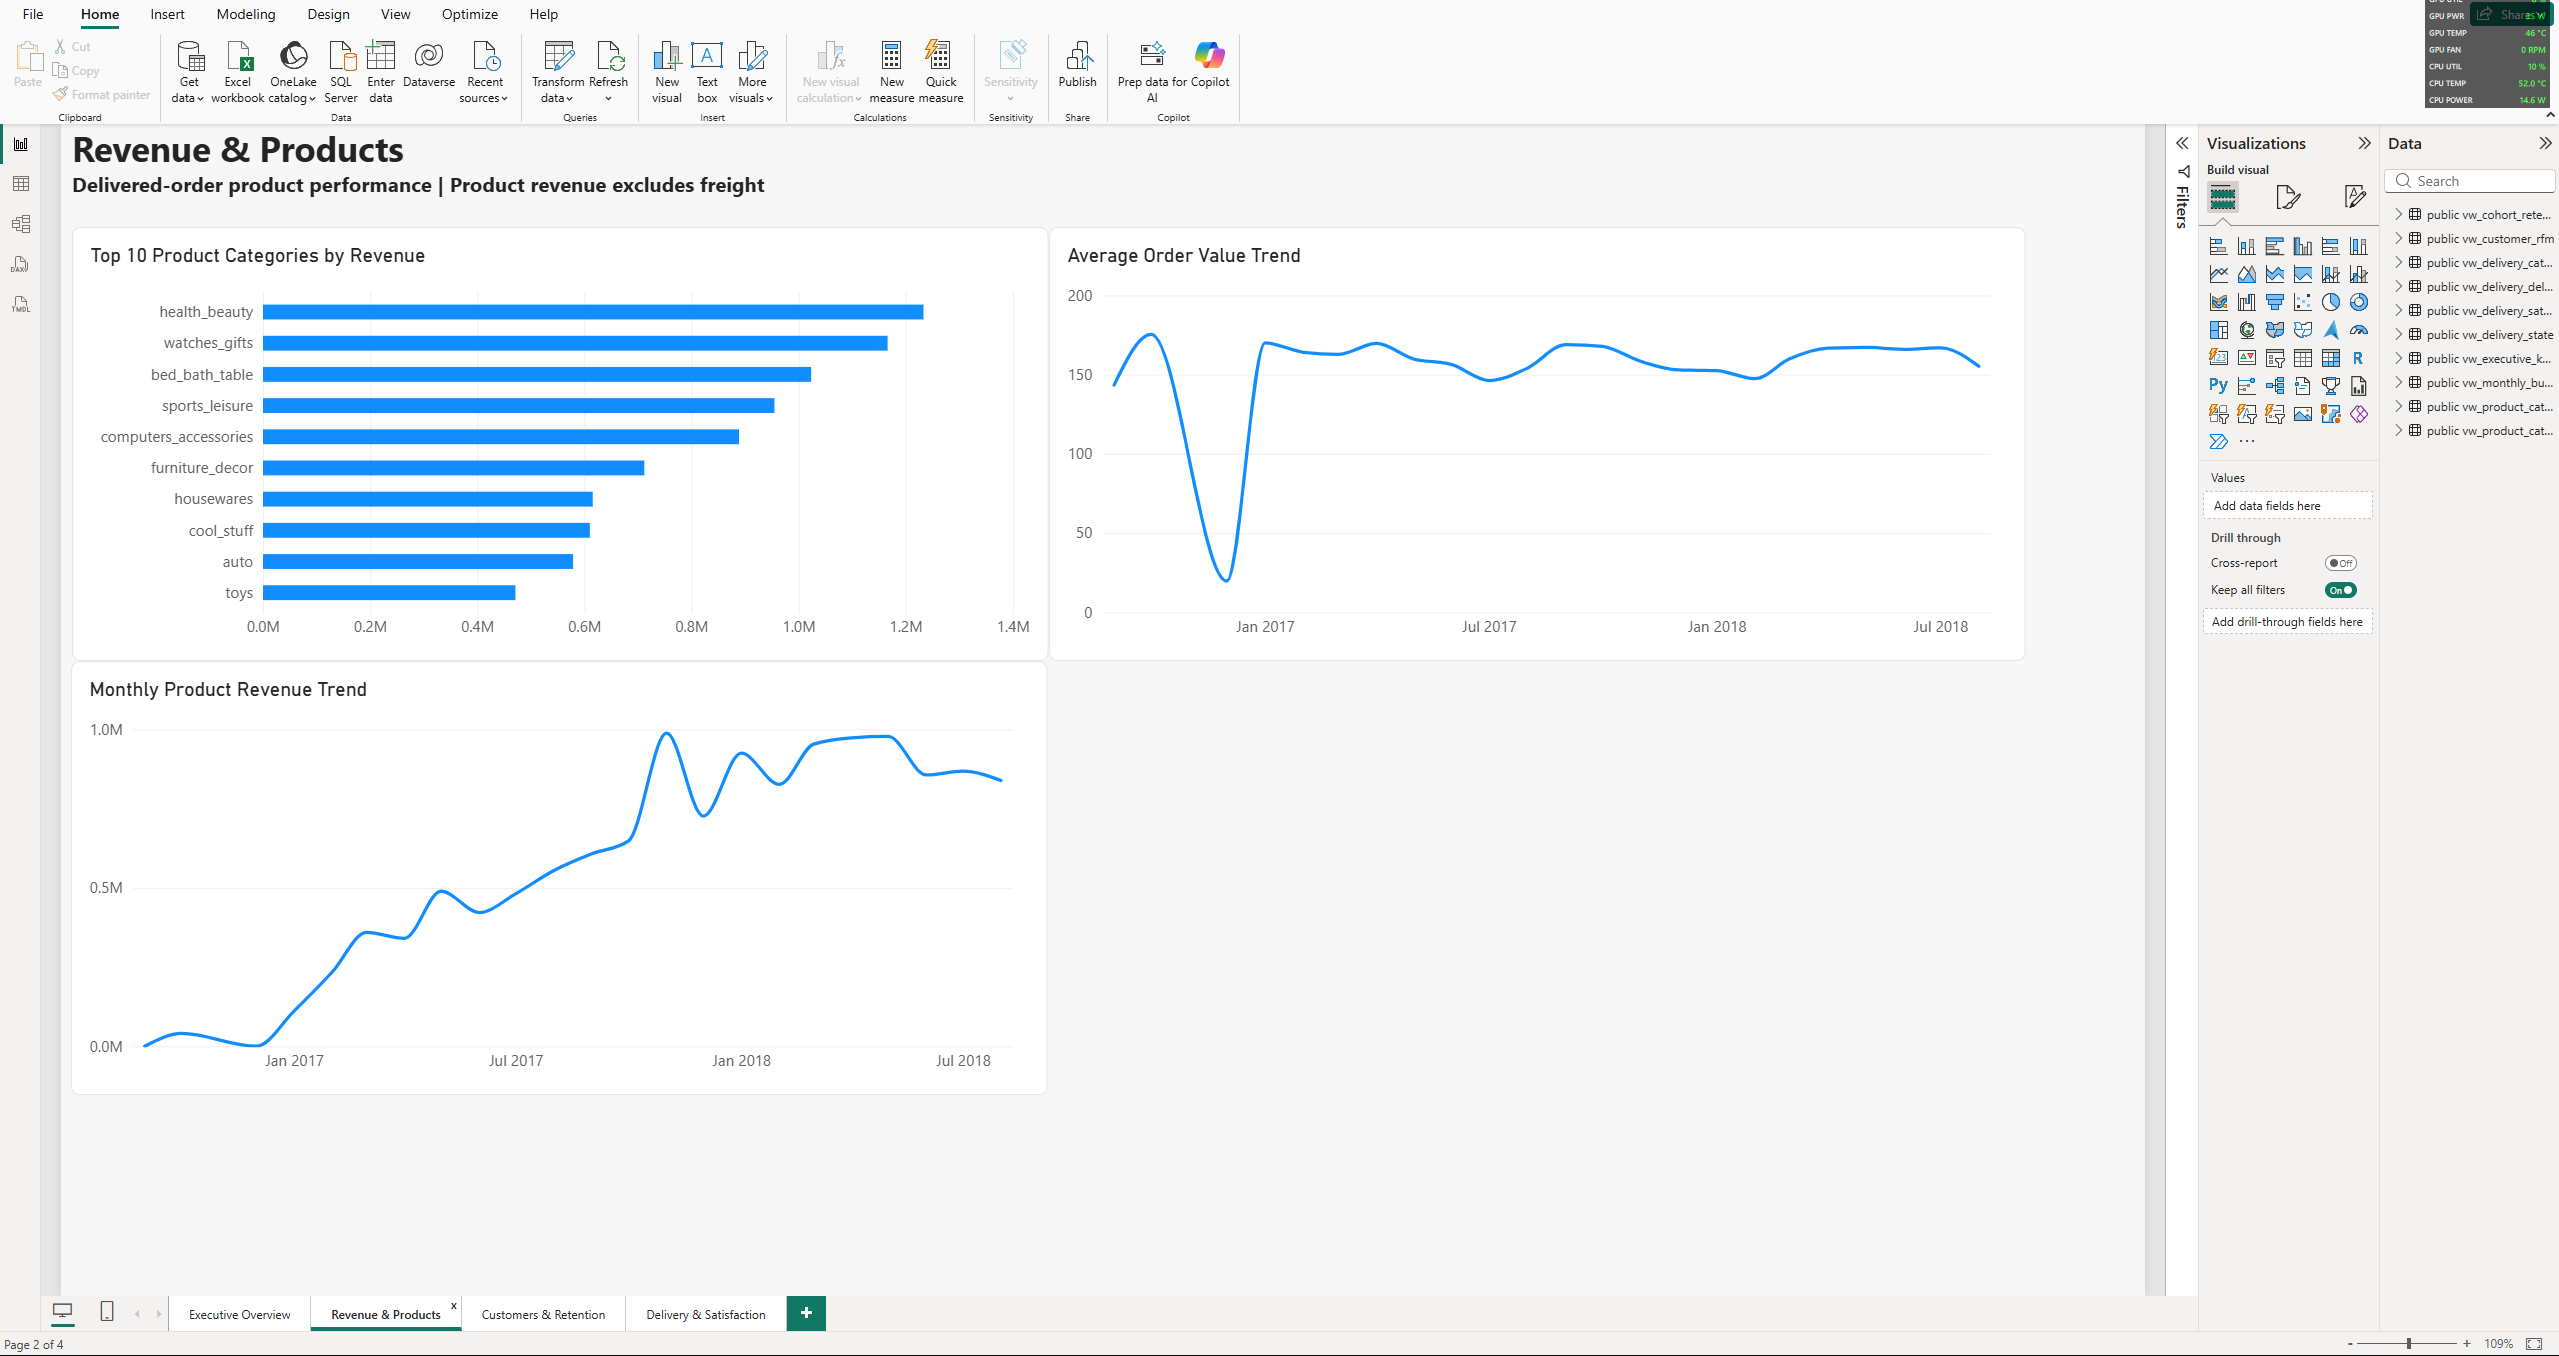

The dashboard page shown, as its layout file describes it:
{"tool":"powerbi","page":{"name":"Revenue & Products","canvas":[1920,1080],"ordinal":1},"visuals":[{"type":"textbox","box":[10.3,0,668.8,144.1],"z":0},{"type":"clusteredBarChart","title":"Top 10 Product Categories by Revenue","fields":{"Category":["public vw_product_category_performance_dashboard.product_category"],"Y":["Sum(public vw_product_category_performance_dashboard.product_revenue)"]},"box":[10,95.4,900,400],"z":1000},{"type":"lineChart","title":"Monthly Product Revenue Trend","fields":{"Category":["public vw_monthly_business_performance.purchase_month"],"Y":["Sum(public vw_monthly_business_performance.product_revenue)"]},"box":[9.2,494.8,900,400],"z":2000},{"type":"lineChart","title":"Average Order Value Trend","fields":{"Category":["public vw_monthly_business_performance.purchase_month"],"Y":["Sum(public vw_monthly_business_performance.average_order_value)"]},"box":[910.4,94.9,900,400],"z":3000}]}

Visuals, with their boxes on the page's 1920x1080 design canvas (x1, y1, x2, y2). These are canvas units, not pixel positions in the 2559x1356 screenshot, which may show the page scaled, cropped or inside an application window:
textbox: 10,0,679,144
"Top 10 Product Categories by Revenue" clusteredBarChart: 10,95,910,495
"Monthly Product Revenue Trend" lineChart: 9,495,909,895
"Average Order Value Trend" lineChart: 910,95,1810,495
